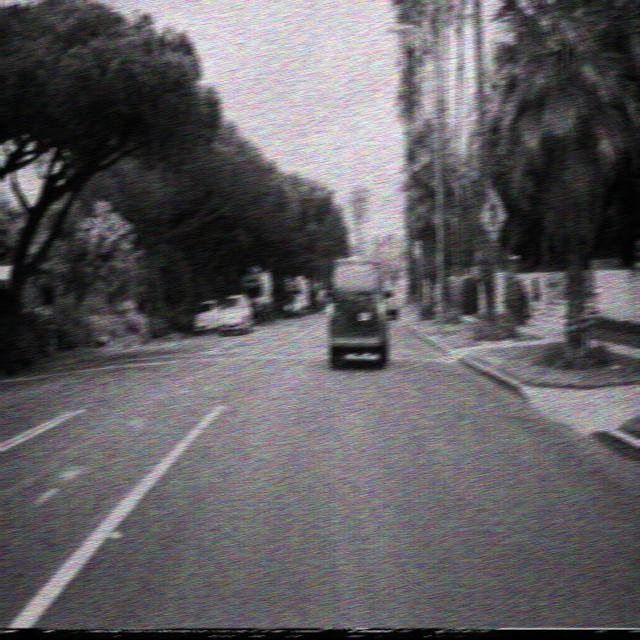pedestrianCrossing: (477, 186, 508, 244)
